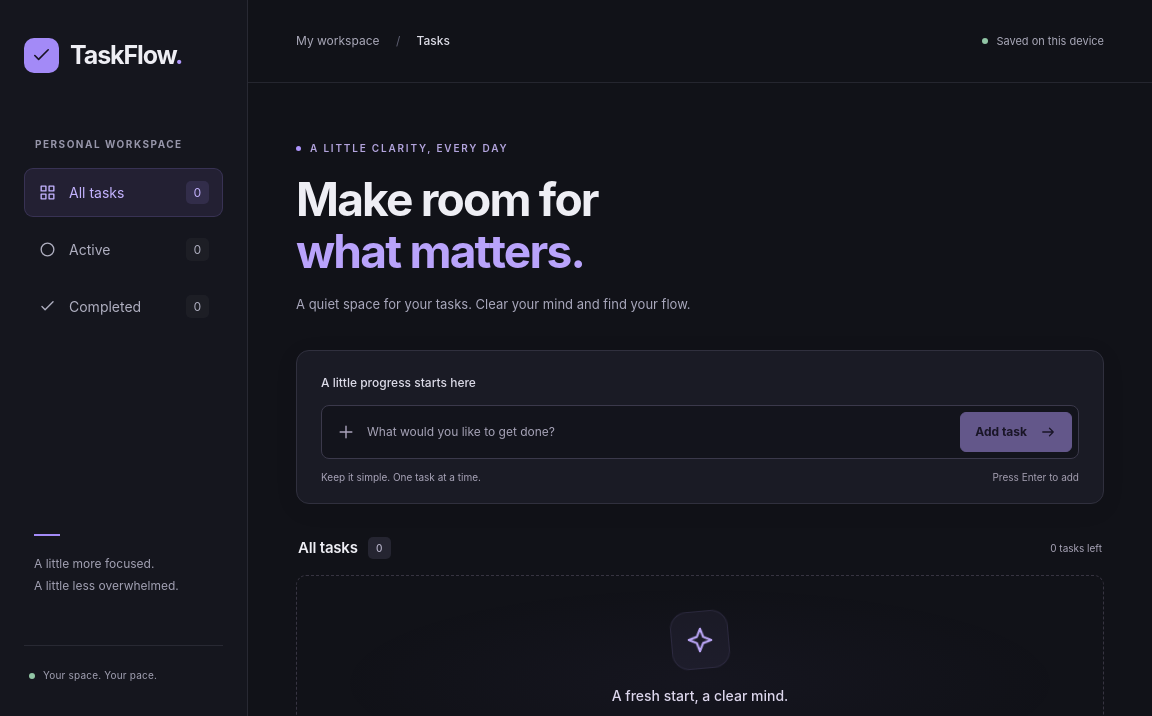
Test: repeatable task announcements › clears and repopulates the same live region for consecutive identical adds
Later steps or results of the test are not shown.
In the field labelled "A little progress starts here": (658, 432) [367,414,949,450], type "Read"
Then press Enter
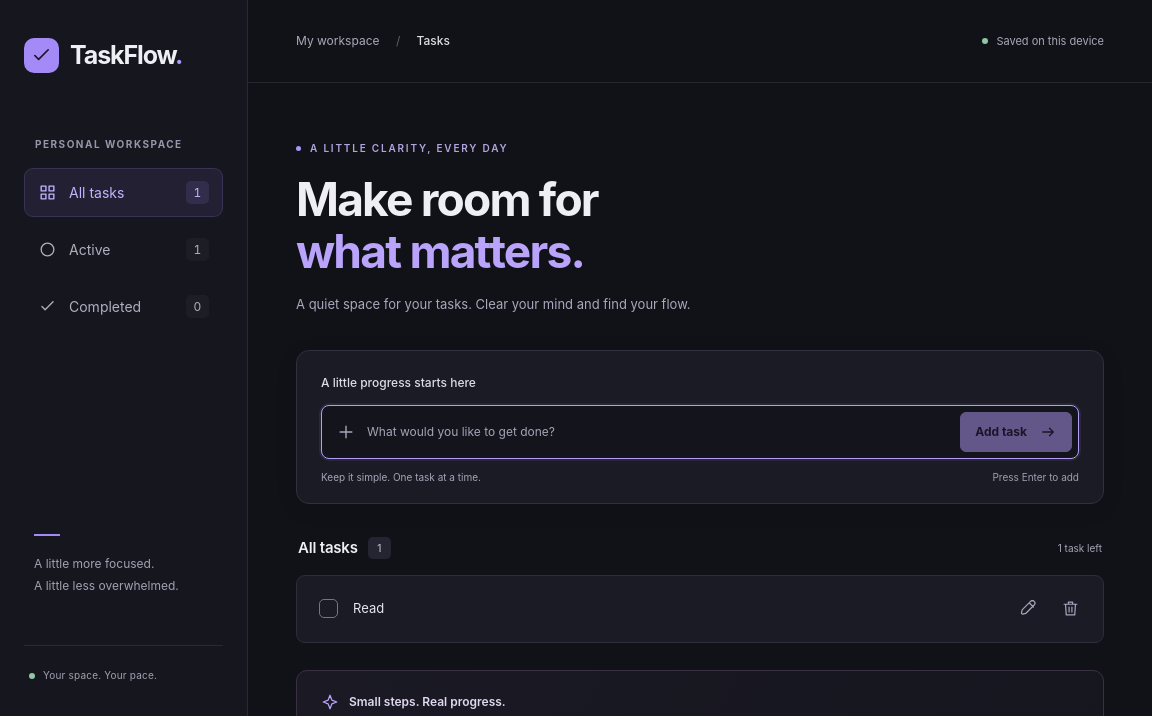
In the field labelled "A little progress starts here": (658, 432) [367,414,949,450], type "Read"
Then press Enter
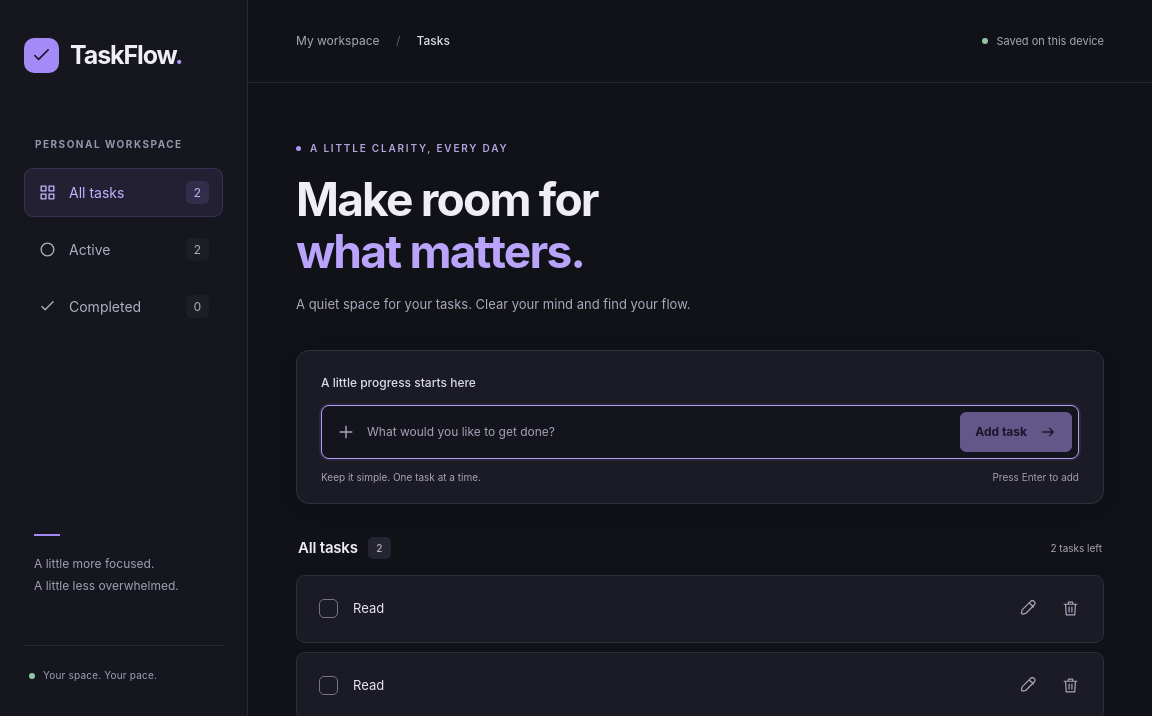
Result: the text "Read" is shown 2 times at [353,600,384,616]; [353,677,384,693]
